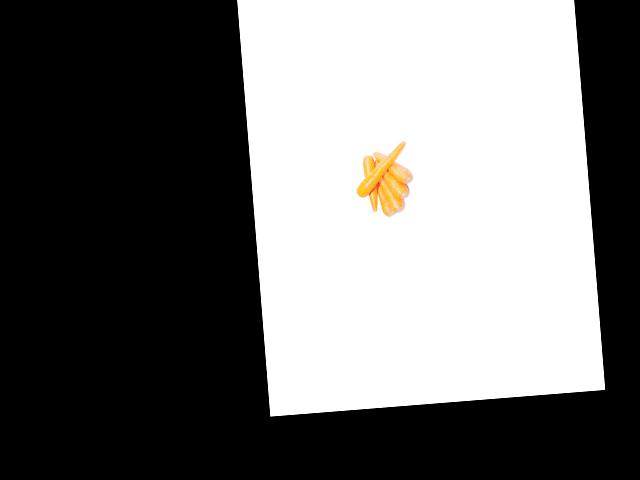carrot: (372, 143, 417, 184)
